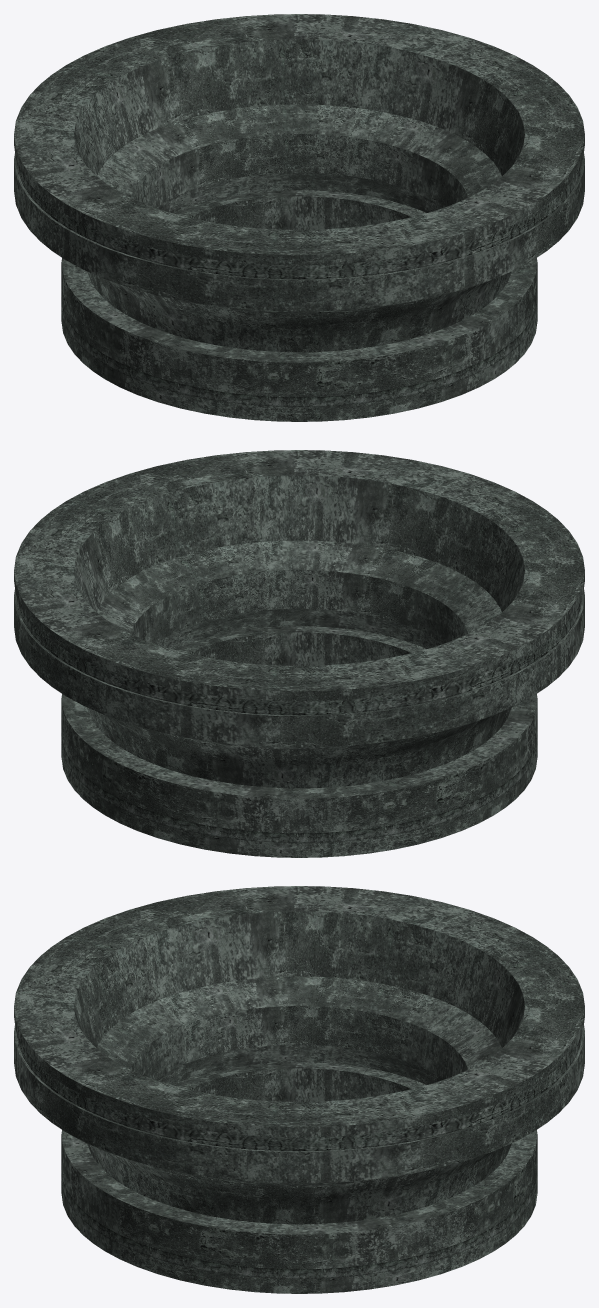
Rendered from mg_9_plate_8.fbx.
The picture shows the model from 3 angles, top to bottom: view 1: azimuth 30°, elevation 25°; view 2: azimuth 150°, elevation 25°; view 3: azimuth 270°, elevation 25°; orthographic projection.
Visible parts, largest first — view 1: mg_9_plate_8; view 2: mg_9_plate_8; view 3: mg_9_plate_8.
Boxes of the visible parts, bbox=[...] form: mg_9_plate_8: bbox=[14, 14, 584, 421]; mg_9_plate_8: bbox=[14, 450, 584, 857]; mg_9_plate_8: bbox=[14, 886, 584, 1293].
Size of the model in its own units: 865 by 312 by 865.
